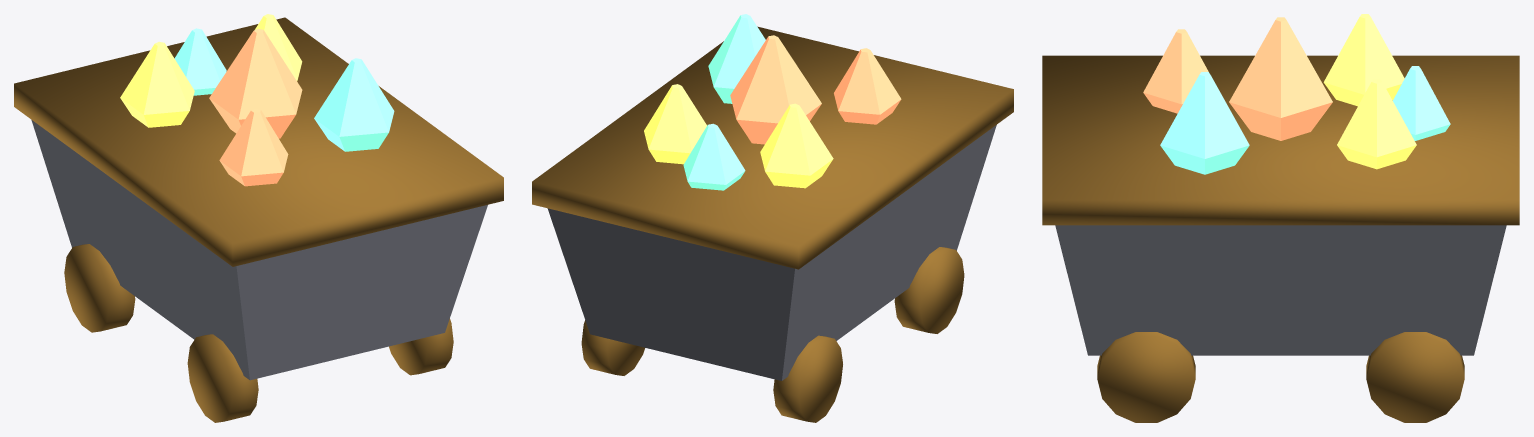
File: prop_mine_cart.glb
3 views of the same model, side by side, from view 1: azimuth 30°, elevation 25°; view 2: azimuth 150°, elevation 25°; view 3: azimuth 270°, elevation 25° (orthographic). The views are drawn at different scales.
Visible parts, largest first — view 1: CartTub; view 2: CartTub; view 3: CartTub.
Boxes of the visible parts, bbox=[...] form: CartTub: bbox=[14, 14, 503, 422]; CartTub: bbox=[532, 14, 1013, 422]; CartTub: bbox=[1042, 14, 1519, 422].
Size of the model in its own units: 2.92 by 3.25 by 4.08.
5 materials, 1 textured.
